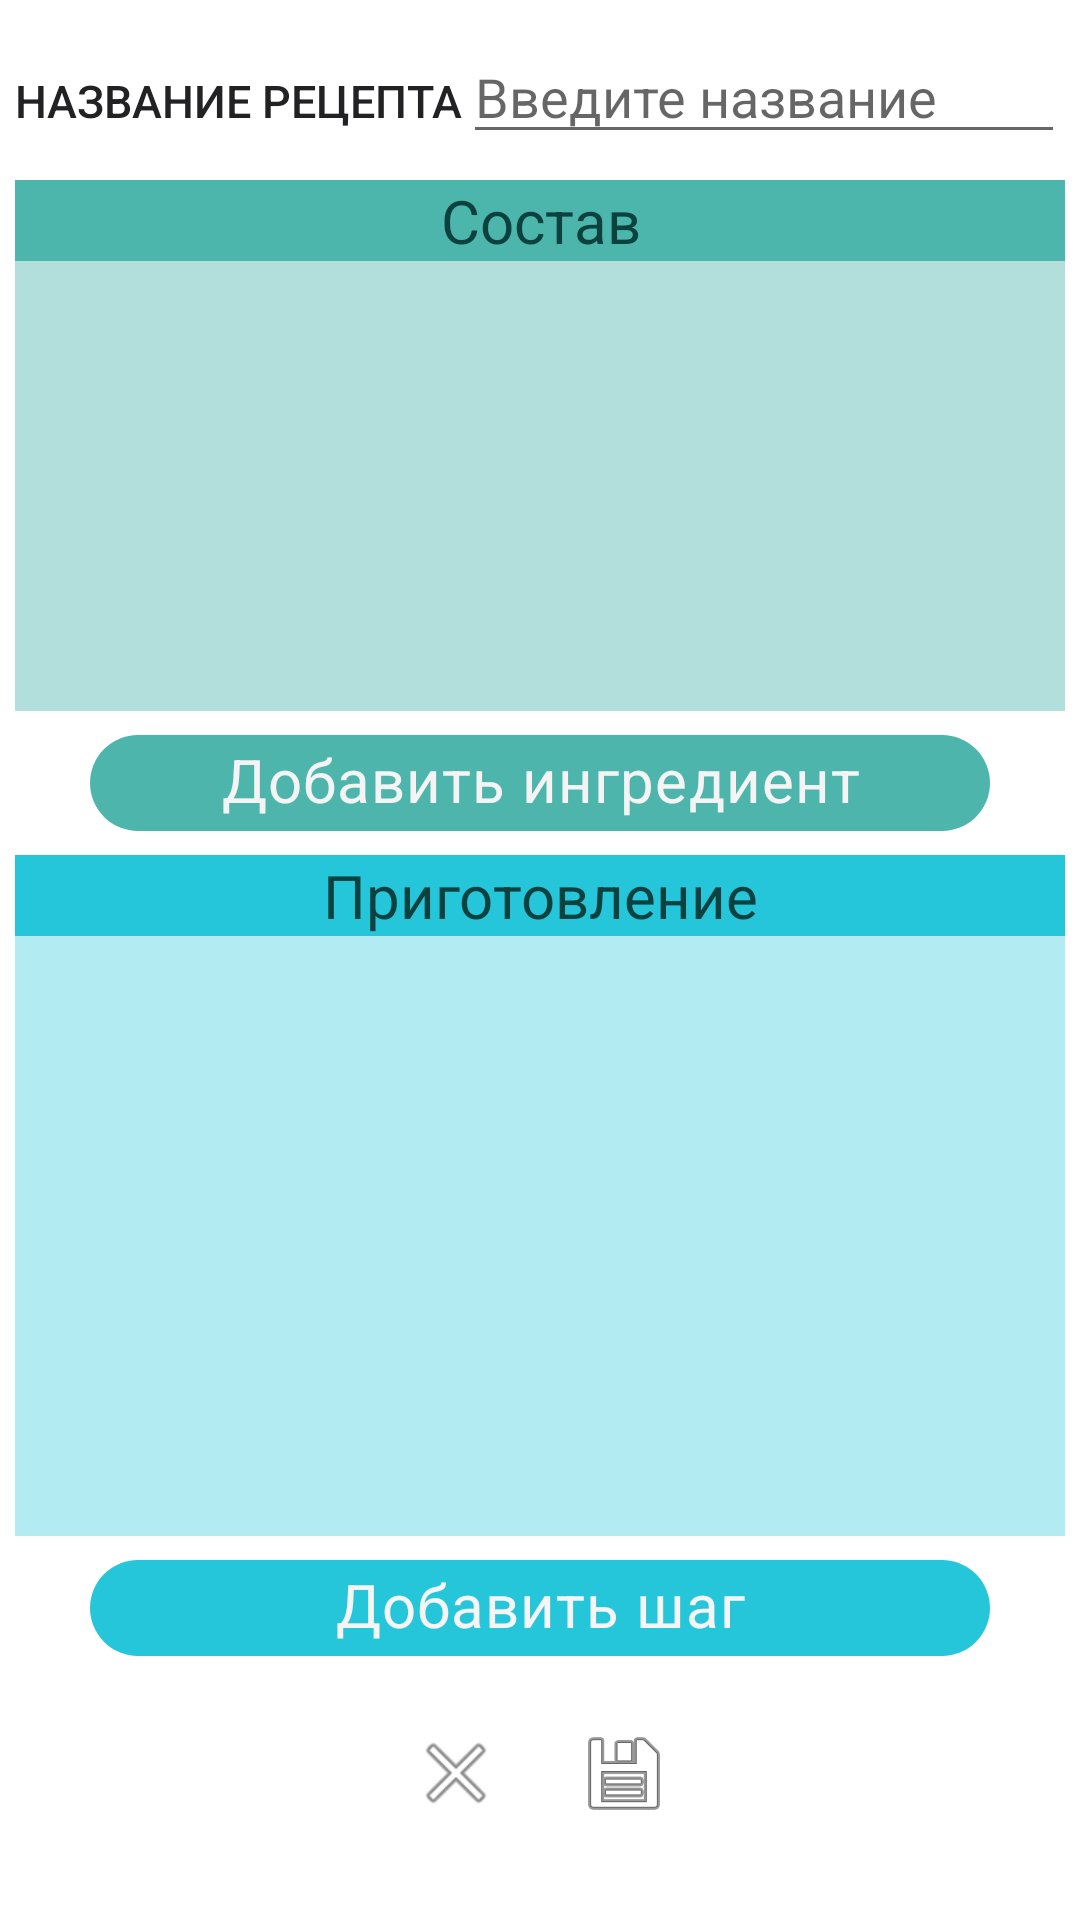

Locate icon controls on the screen. Image size 1080 x 1920, boxes as (x1, y1, x2, y2).
close clear cancel: (426, 1743, 486, 1803)
save: (588, 1737, 660, 1810)
